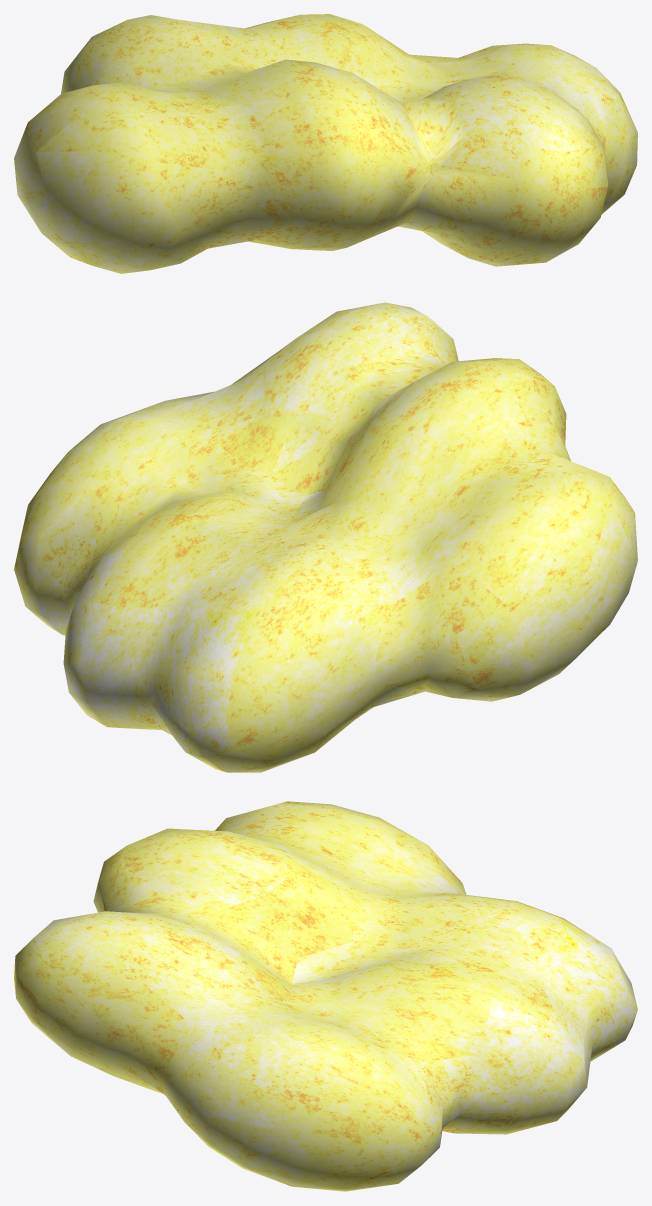
Rendered from playerC.obj.
The picture shows the model from 3 angles, top to bottom: view 1: azimuth 30°, elevation 25°; view 2: azimuth 150°, elevation 25°; view 3: azimuth 270°, elevation 25°; orthographic projection. The views are drawn at different scales.
Parts seen in each view (by area): view 1: メタボール.006; view 2: メタボール.006; view 3: メタボール.006.
Part boxes in pixels (x1,y1,x2,y2): メタボール.006: [14, 14, 637, 273]; メタボール.006: [14, 302, 637, 772]; メタボール.006: [14, 801, 637, 1191].
Size of the model in its own units: 1.66 by 0.7289 by 1.8.
